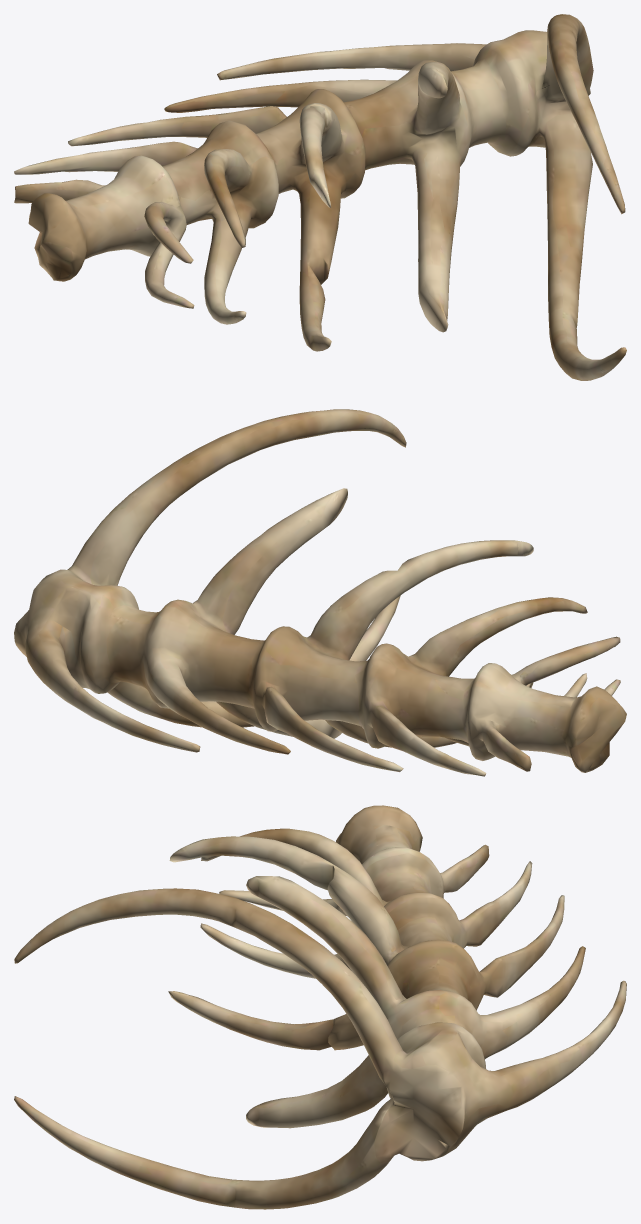
File: bone_broken_s.glb
The picture shows the model from 3 angles, top to bottom: view 1: azimuth 30°, elevation 25°; view 2: azimuth 150°, elevation 25°; view 3: azimuth 270°, elevation 25°; orthographic projection. The views are drawn at different scales.
Parts seen in each view (by area): view 1: bone_broken_s; view 2: bone_broken_s; view 3: bone_broken_s.
Boxes of the visible parts, bbox=[...] form: bone_broken_s: bbox=[14, 14, 626, 380]; bone_broken_s: bbox=[14, 409, 626, 776]; bone_broken_s: bbox=[14, 805, 626, 1209].
Bounding box in the file's own units: 0.3 × 0.1535 × 0.2762.
Materials: 1 (1 with a texture image).
